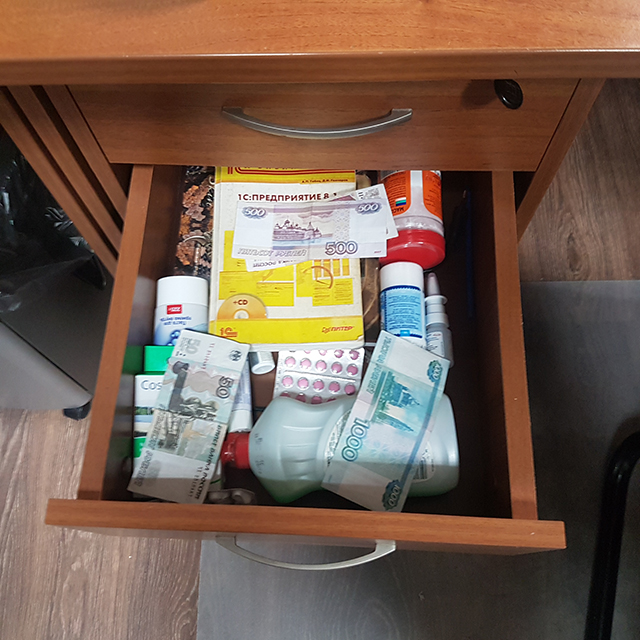banknotes: (323, 329, 449, 512), (126, 329, 250, 502), (231, 185, 401, 271)
